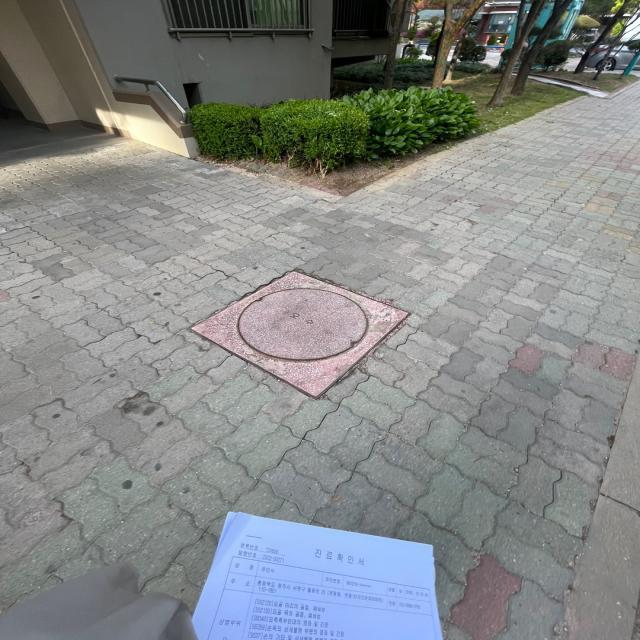manhole: (191, 271, 411, 400)
